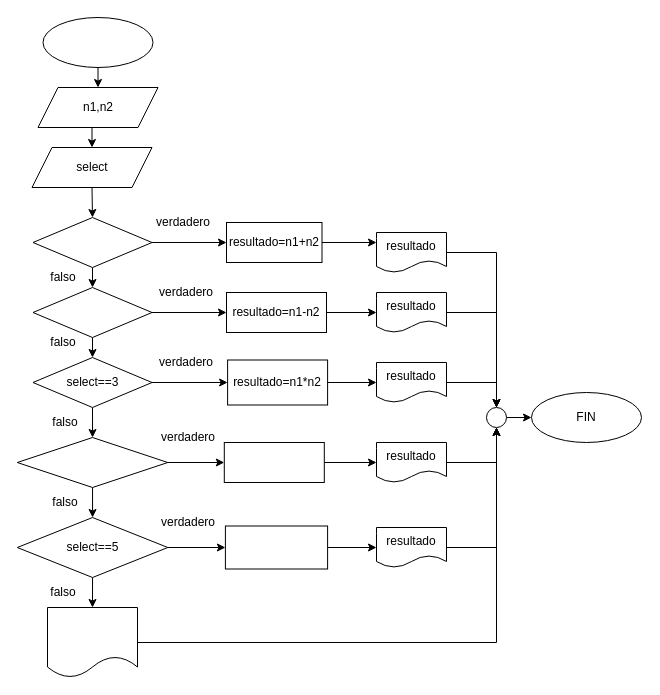
This 660x695 diagram has some shape labels left out. The shapes that lost their labels are listed below. From the top down, each one's box as (x1, y1, x2, y2) in pixels, then its label:
(42, 16, 153, 68): INICIO
(32, 216, 152, 268): select==1
(32, 286, 152, 338): select==2
(16, 436, 168, 488): select==4
(223, 442, 324, 482): resultado=n1/n2
(224, 525, 328, 569): resultado=n1%n2
(46, 606, 138, 678): "La opción escogida no es valida"
